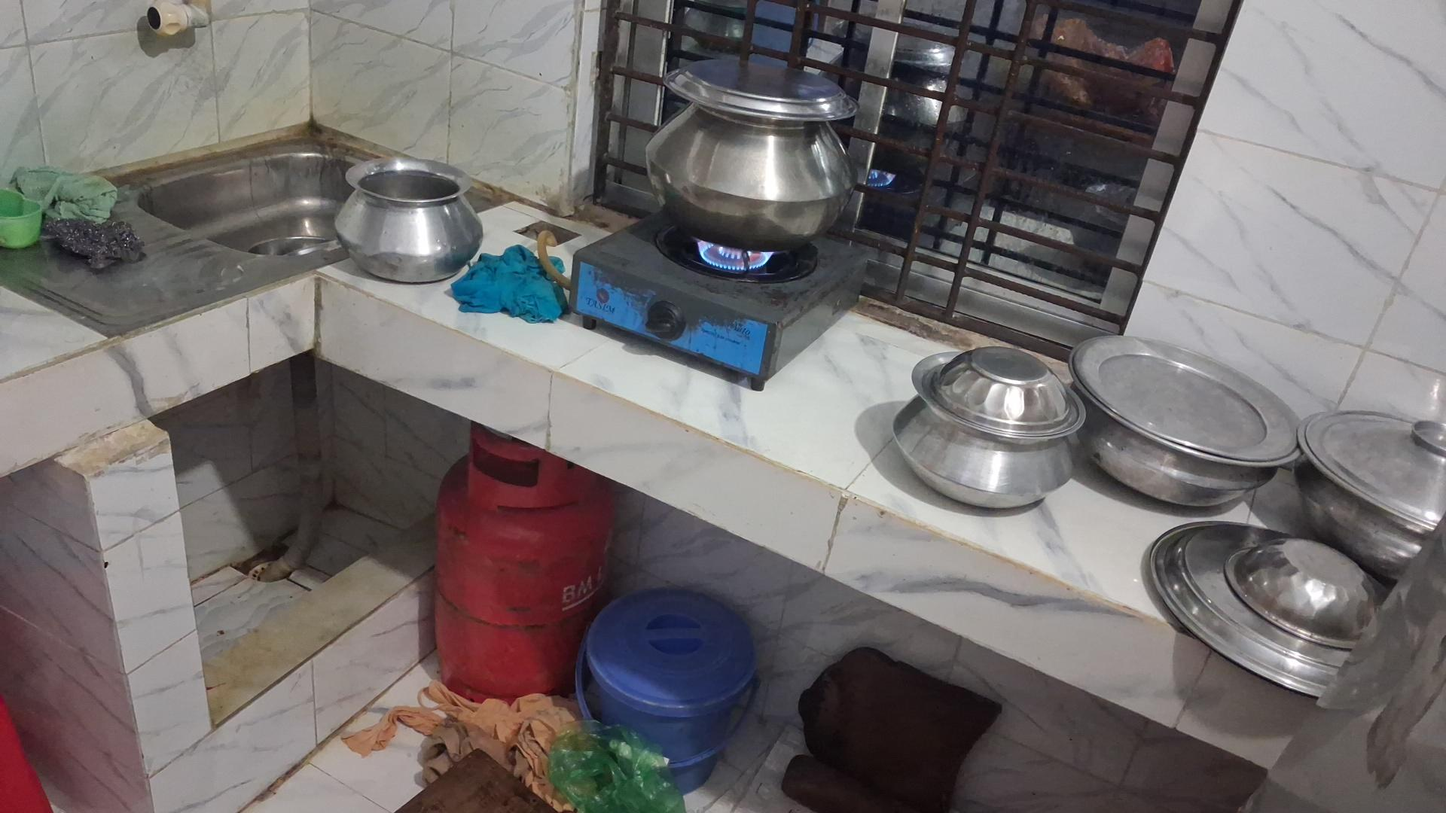Bowl: (1291, 407, 1445, 581), (1224, 536, 1380, 654)
Bucket: (575, 595, 762, 792)
Pot: (645, 45, 858, 248), (1072, 335, 1299, 515), (895, 335, 1084, 514), (333, 156, 484, 284)
